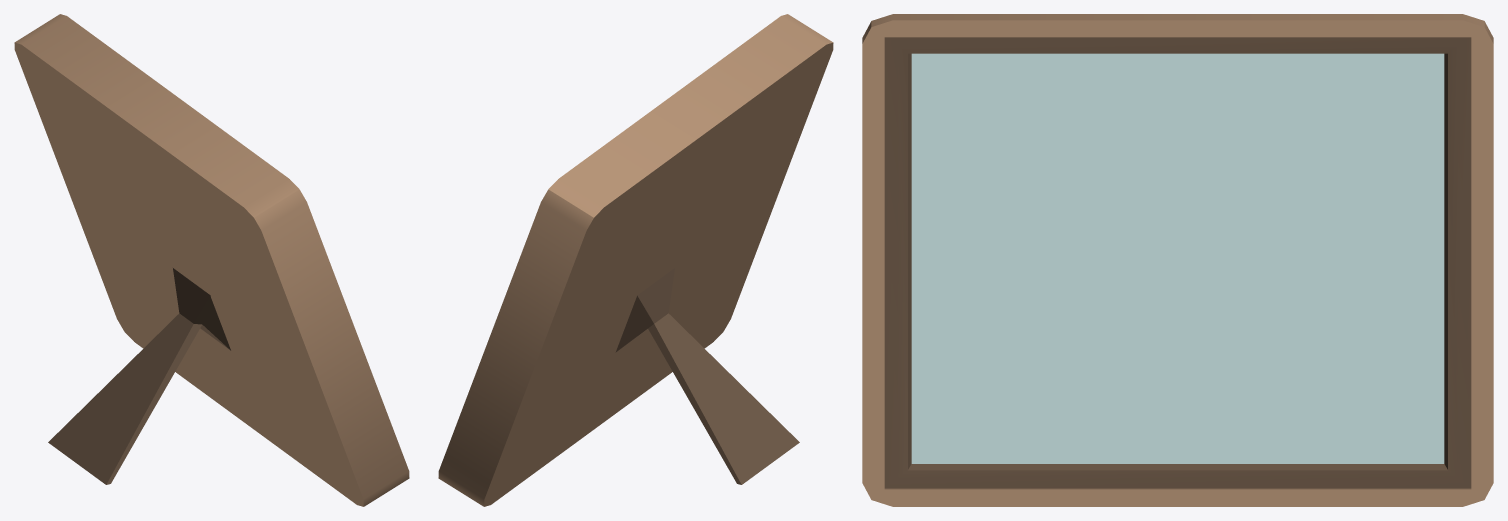
The model's file is Picture Frame.fbx.
The picture shows the model from 3 angles, left to right: view 1: azimuth 30°, elevation 25°; view 2: azimuth 150°, elevation 25°; view 3: azimuth 270°, elevation 25°; orthographic projection. The views are drawn at different scales.
Parts seen in each view (by area): view 1: Plane; view 2: Plane; view 3: Plane.
Boxes of the visible parts, bbox=[...] form: Plane: bbox=[14, 14, 409, 506]; Plane: bbox=[438, 14, 833, 506]; Plane: bbox=[862, 14, 1493, 506].
Size of the model in its own units: 2.47 by 3.78 by 4.93.
